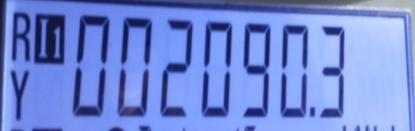0: (308, 106, 317, 116)
1: (72, 13, 111, 118), (116, 16, 150, 118), (202, 18, 233, 117), (278, 25, 309, 118)
3: (158, 18, 195, 120)
4: (316, 25, 352, 120)
:: (237, 21, 271, 117)
